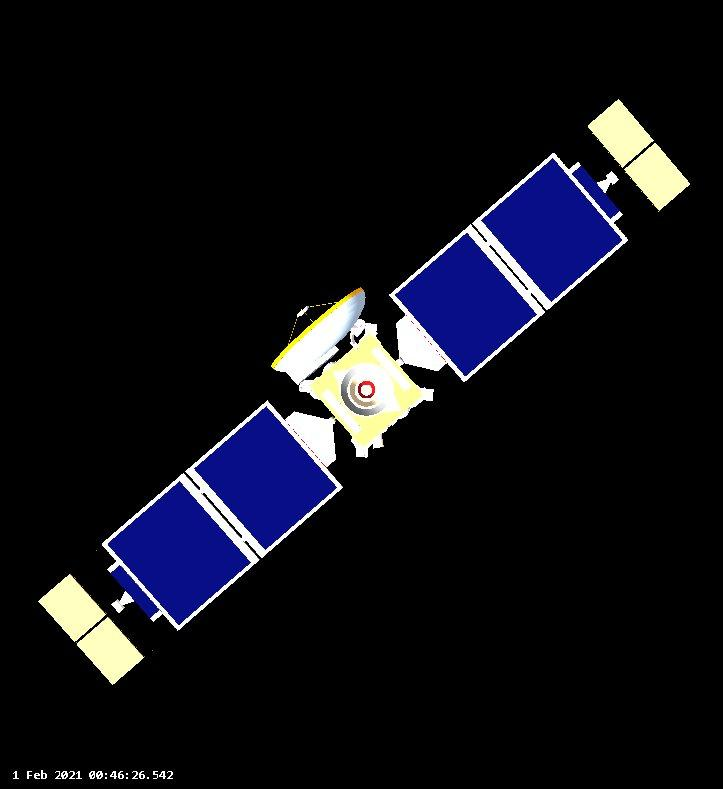antenna: (269, 283, 367, 379)
body: (300, 327, 430, 459)
solar: (33, 395, 347, 690), (389, 92, 697, 387)
